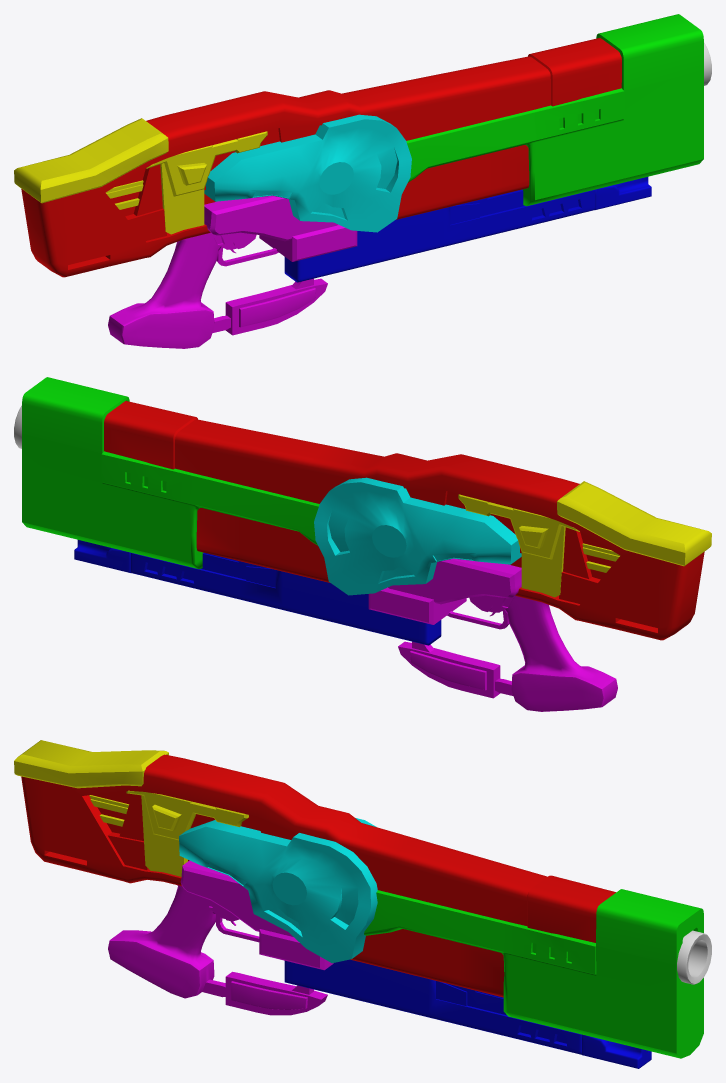
Rendered from gun.fbx.
The picture shows the model from 3 angles, top to bottom: view 1: azimuth 30°, elevation 25°; view 2: azimuth 150°, elevation 25°; view 3: azimuth 330°, elevation 25°; orthographic projection.
Parts seen in each view (by area): view 1: gun_bady.1; view 2: gun_bady.1; view 3: gun_bady.1.
Part boxes in pixels (left/top/right/bottom): gun_bady.1: left=14, top=14, right=711, bottom=348; gun_bady.1: left=14, top=377, right=711, bottom=711; gun_bady.1: left=14, top=740, right=711, bottom=1068.
Bounding box in the file's own units: 72.92 × 23.41 × 8.82.
